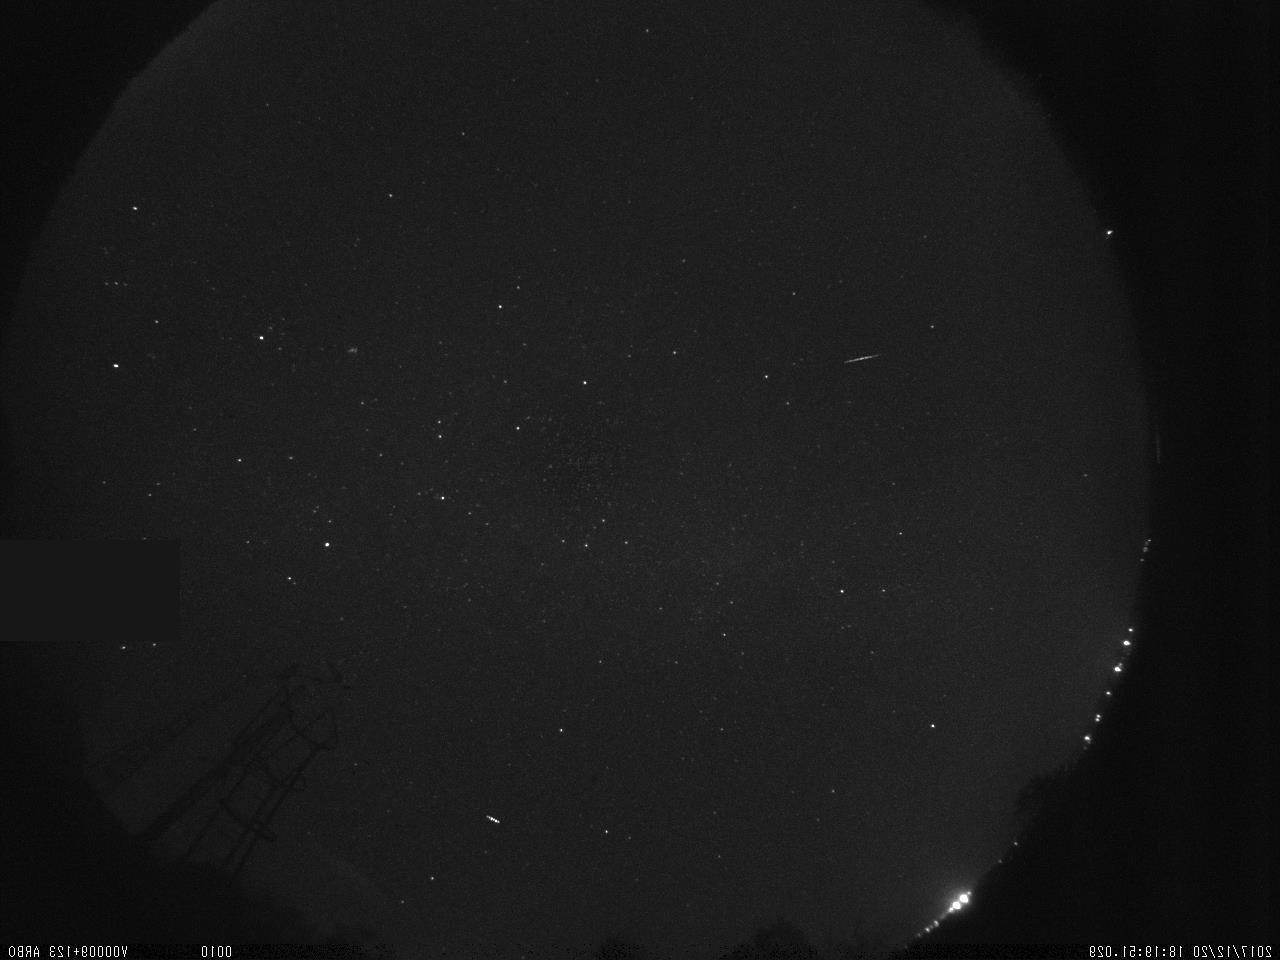meteor: (786, 325, 912, 398)
